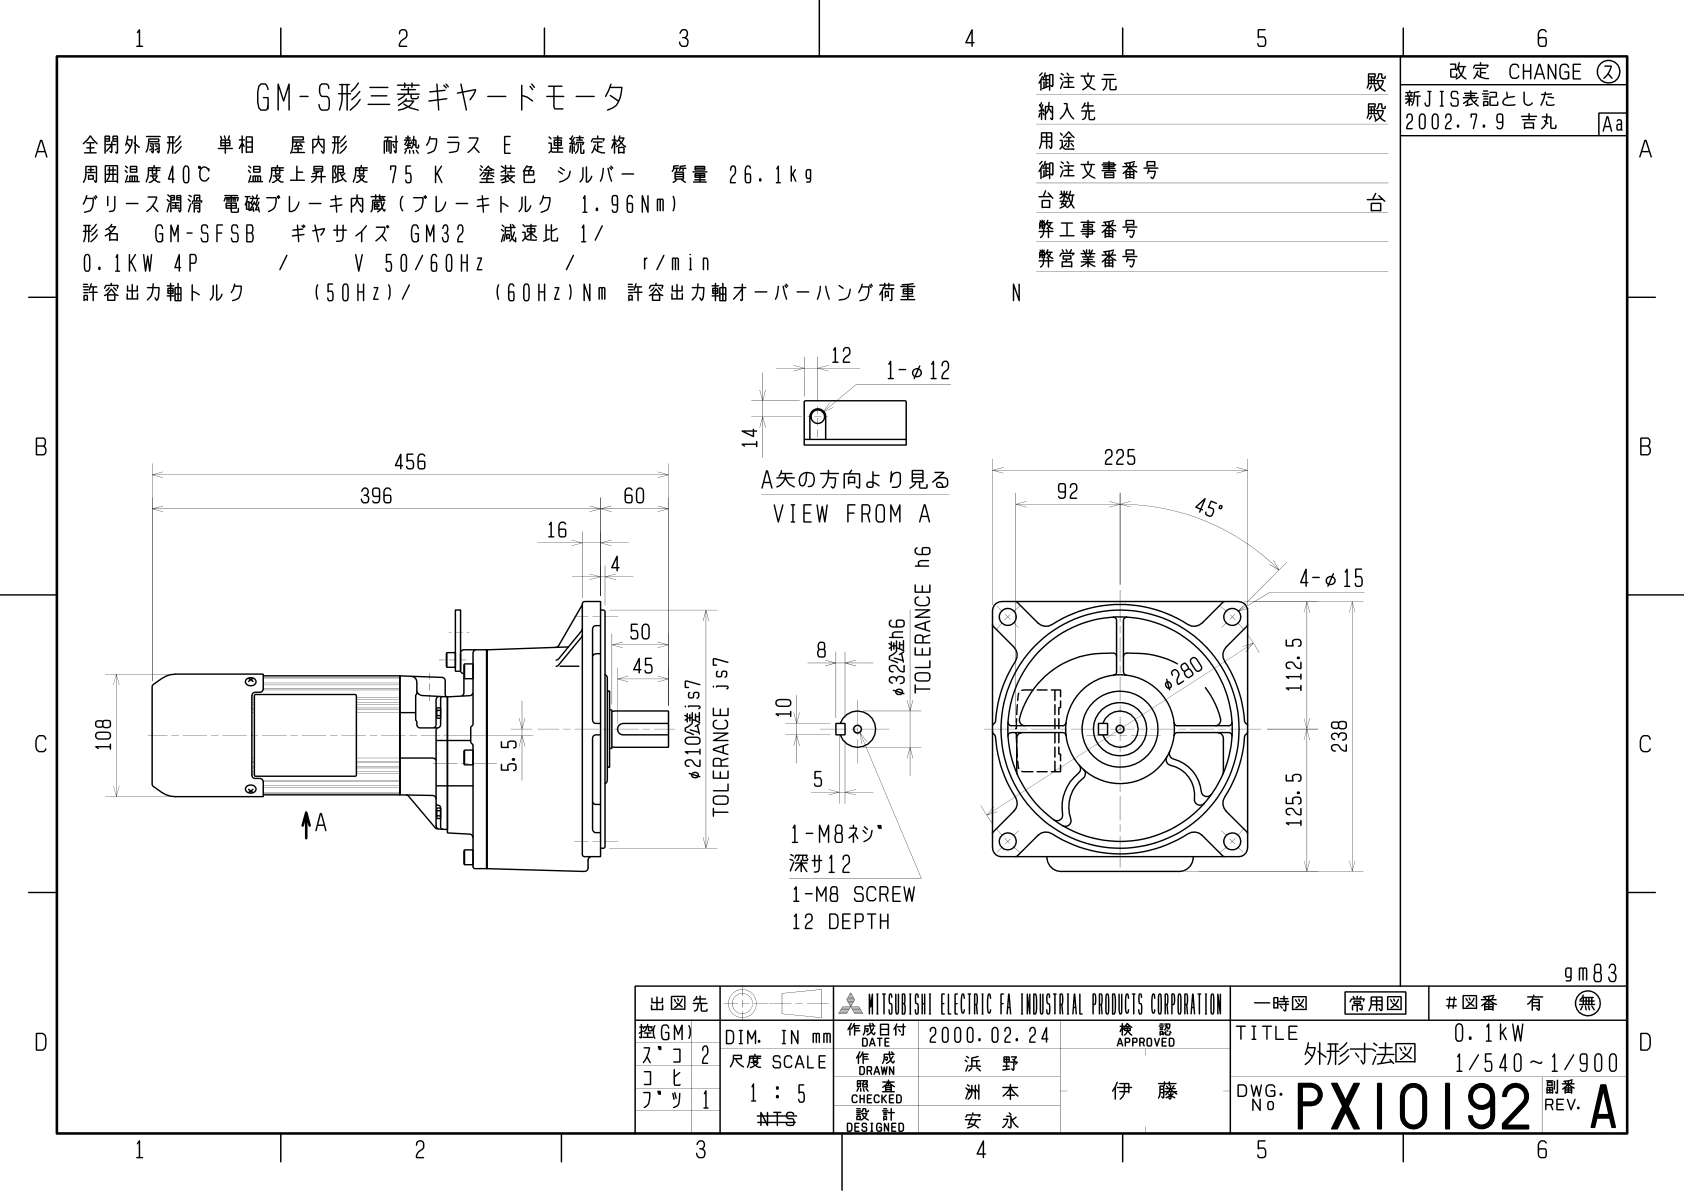GM_S_屋内＿単相_フランジ: (15, 5, 1684, 1191)
